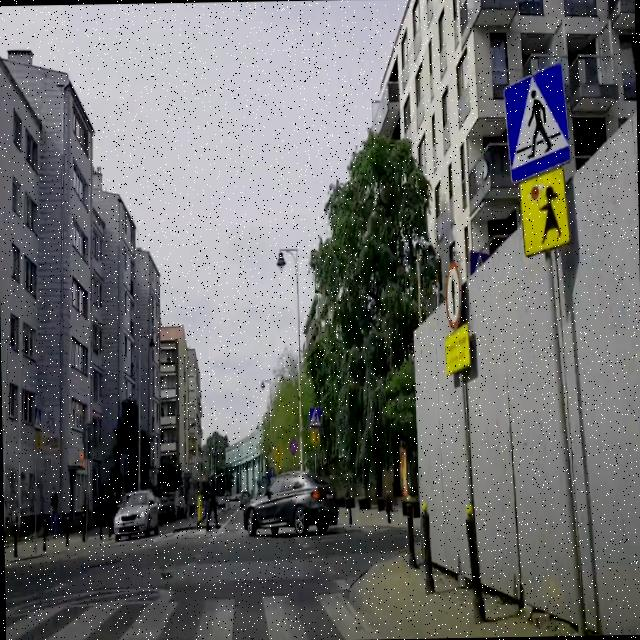Przejscie dla pieszych: (503, 82, 570, 160), (310, 405, 320, 425), (34, 407, 41, 429)
Zakaz zatrzymywania sie: (288, 437, 298, 454)
